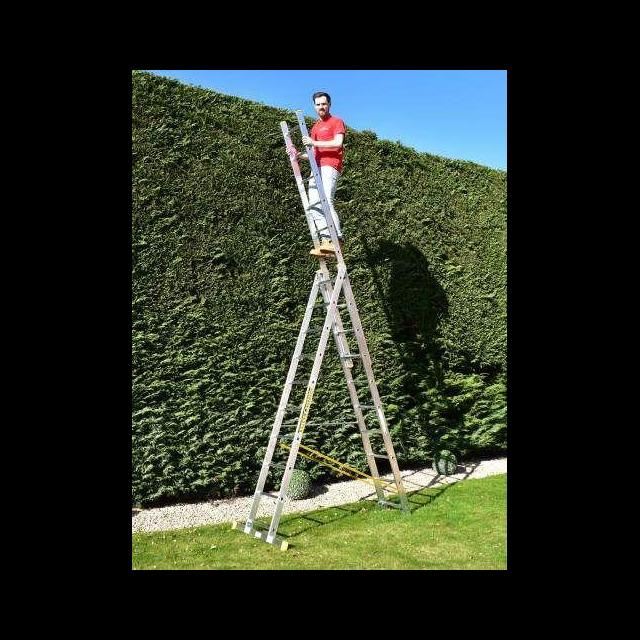Ladder: (245, 110, 413, 551)
NO-Hardhat: (314, 94, 329, 101)
NO-Mask: (319, 109, 329, 118)
Person: (290, 93, 347, 256)
